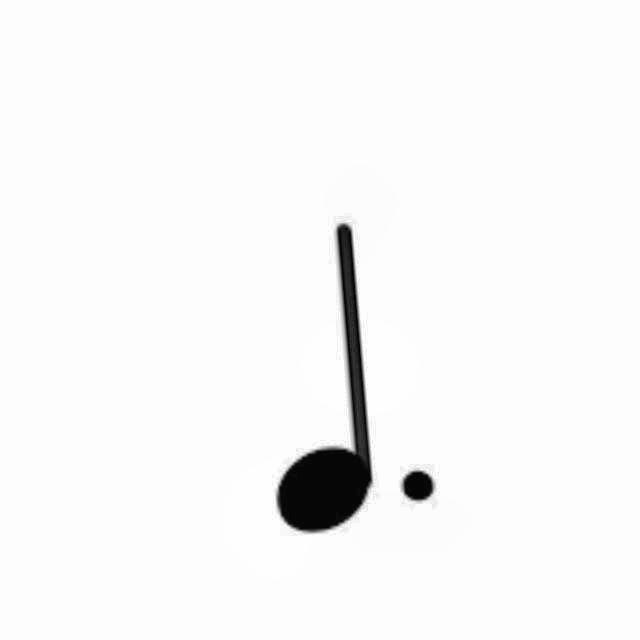Quarter-dot: (260, 209, 460, 546)
